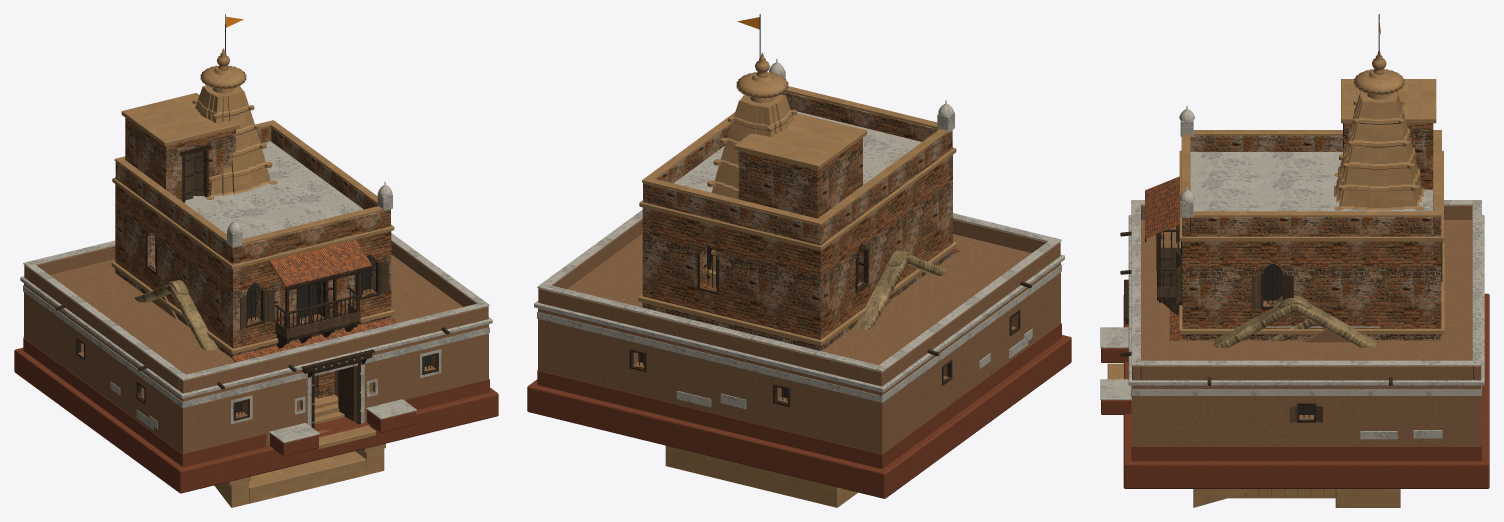
Rendered from southasia.glb.
3 views of the same model, side by side, from view 1: azimuth 30°, elevation 25°; view 2: azimuth 150°, elevation 25°; view 3: azimuth 270°, elevation 25° (orthographic). The views are drawn at different scales.
Visible parts, largest first — view 1: house_courtyard_mesh, house_town_mesh, temple_small_mesh, well_step_mesh, smithy_sa_mesh; view 2: house_courtyard_mesh, house_town_mesh, temple_small_mesh, well_step_mesh, smithy_sa_mesh; view 3: house_courtyard_mesh, house_town_mesh, temple_small_mesh, smithy_sa_mesh, well_step_mesh.
Boxes of the visible parts, box(x1,y1,x2,y2) form: house_courtyard_mesh: box(14, 233, 498, 493); house_town_mesh: box(111, 93, 396, 398); temple_small_mesh: box(192, 14, 344, 424); well_step_mesh: box(214, 443, 385, 507); smithy_sa_mesh: box(134, 280, 218, 350); house_courtyard_mesh: box(527, 210, 1071, 498); house_town_mesh: box(638, 59, 960, 350); temple_small_mesh: box(706, 14, 796, 286); well_step_mesh: box(665, 445, 857, 507); smithy_sa_mesh: box(854, 250, 948, 329); house_courtyard_mesh: box(1100, 200, 1489, 488); house_town_mesh: box(1145, 79, 1444, 340); temple_small_mesh: box(1334, 14, 1424, 210); smithy_sa_mesh: box(1214, 295, 1375, 347); well_step_mesh: box(1193, 489, 1400, 507).
Bounding box in the file's own units: 12.71 × 15.48 × 12.02.
19 materials, 13 textured.
